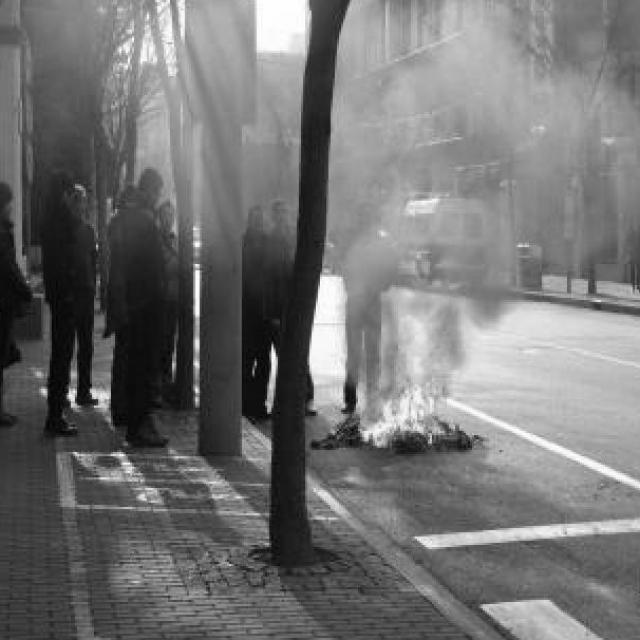fire: (352, 364, 462, 458)
smoke: (348, 0, 640, 368)
